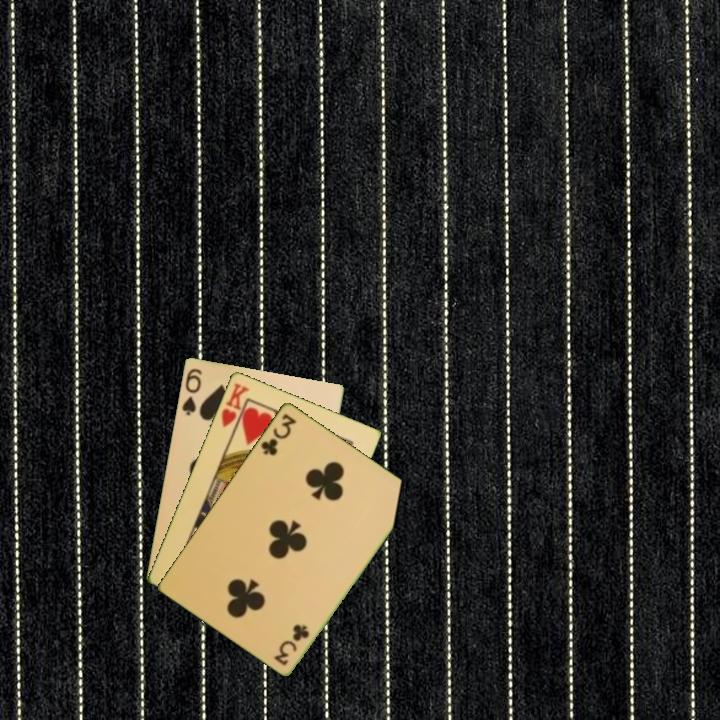3c: (257, 410, 299, 458), (272, 621, 312, 668)
6s: (178, 365, 205, 418)
Kh: (218, 379, 252, 436)
